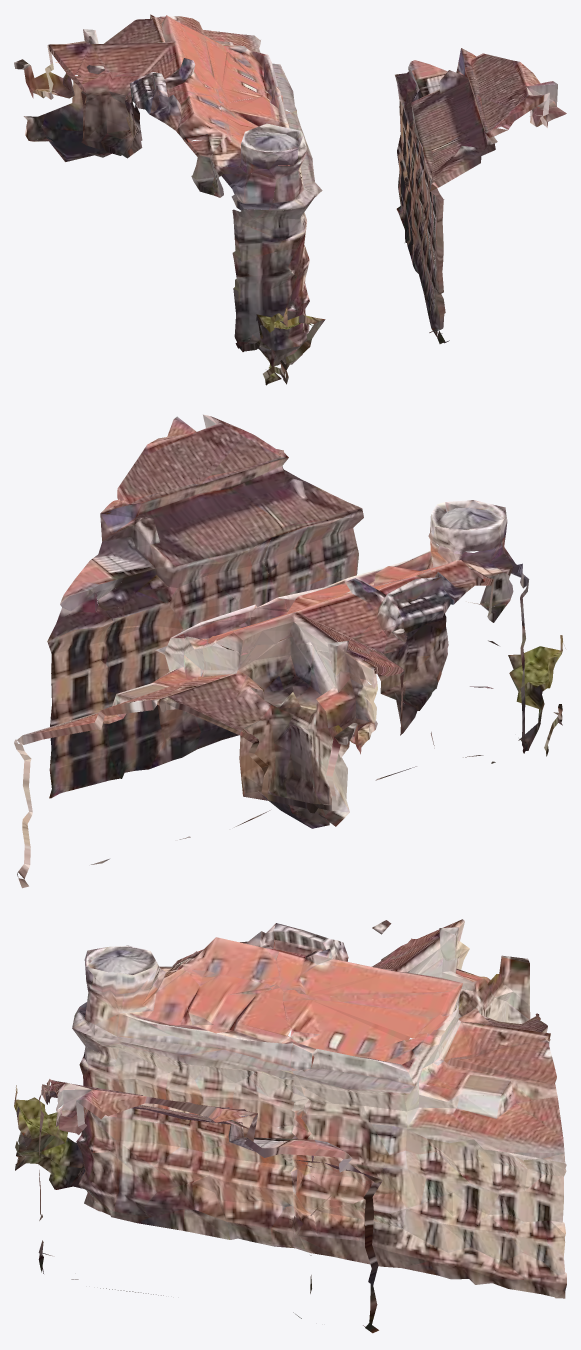
3 renders of one model, top to bottom at view 1: azimuth 30°, elevation 25°; view 2: azimuth 150°, elevation 25°; view 3: azimuth 270°, elevation 25°, orthographic. The views are drawn at different scales.
Parts seen in each view (by area): view 1: Mesh_0; view 2: Mesh_0; view 3: Mesh_0.
Boxes of the visible parts, x1,y1,x2,y2 form: Mesh_0: (14,14,566,385); Mesh_0: (14,414,565,888); Mesh_0: (14,919,566,1333).
Size of the model in its own units: 33.32 by 21.07 by 41.06.
Materials: 2 (2 with a texture image).
